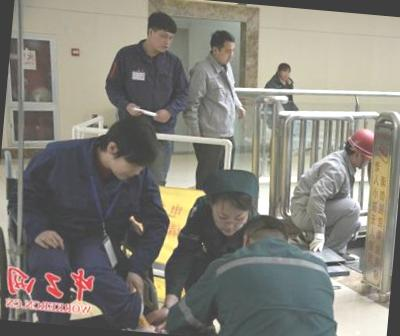no_helmet: (195, 164, 264, 236), (93, 113, 161, 182), (236, 207, 292, 260), (136, 9, 180, 57), (204, 27, 239, 67), (272, 58, 295, 84)
